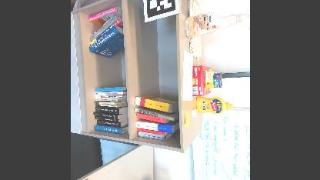book-spine: (85, 25, 119, 52), (88, 18, 121, 45), (88, 15, 118, 42), (133, 97, 169, 112), (133, 108, 174, 121), (91, 14, 115, 36), (86, 6, 118, 21), (135, 121, 173, 133), (135, 113, 165, 124), (93, 125, 123, 134), (136, 128, 165, 135), (136, 134, 165, 141), (136, 131, 165, 138), (94, 106, 119, 114), (94, 116, 119, 123), (92, 112, 117, 119), (96, 120, 120, 127), (93, 87, 123, 92), (93, 95, 122, 98), (94, 92, 122, 95), (95, 98, 117, 101), (93, 102, 115, 105), (95, 104, 116, 107)
